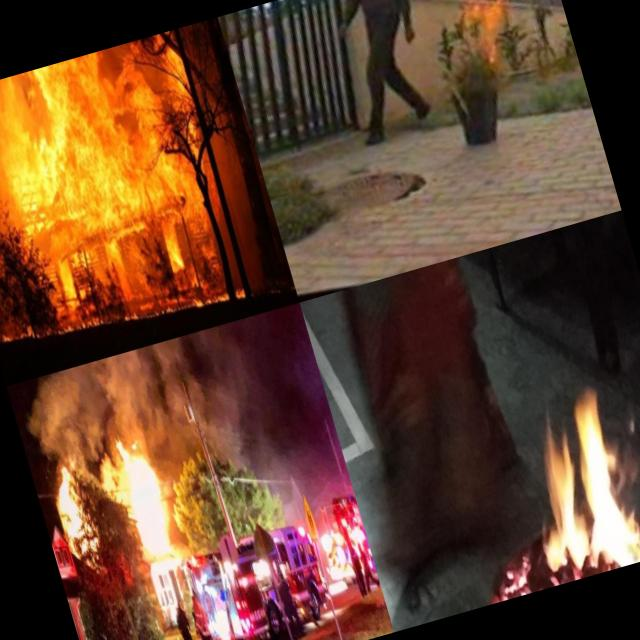fire: (0, 28, 247, 335), (491, 353, 640, 587), (112, 432, 181, 564), (42, 456, 96, 556), (474, 532, 548, 604), (455, 0, 518, 65)
smoke: (6, 319, 264, 467), (147, 420, 208, 480), (70, 443, 125, 508), (198, 406, 252, 466)
